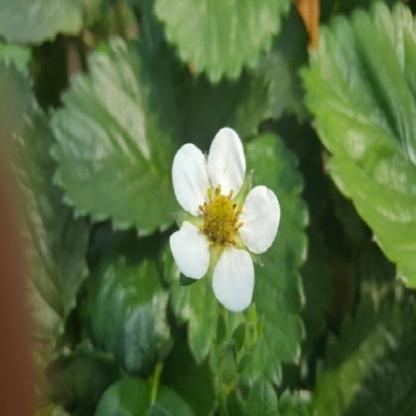Strawberry_Blossom_Blight: (194, 181, 245, 253)
